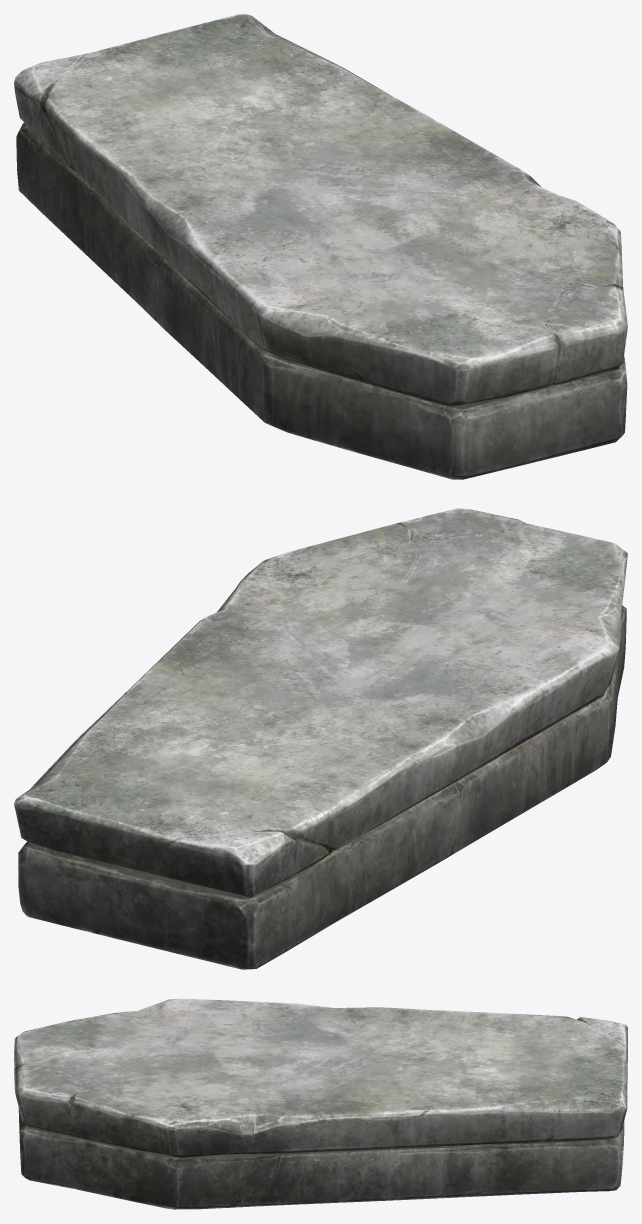
3 views of the same model, one above another, from view 1: azimuth 30°, elevation 25°; view 2: azimuth 150°, elevation 25°; view 3: azimuth 270°, elevation 25° (orthographic). The views are drawn at different scales.
Parts seen in each view (by area): view 1: SM_Coffin_01v1_LOD0; view 2: SM_Coffin_01v1_LOD0; view 3: SM_Coffin_01v1_LOD0.
Boxes of the visible parts, box(x1,y1,x2,y2) form: SM_Coffin_01v1_LOD0: box(14, 14, 627, 479); SM_Coffin_01v1_LOD0: box(14, 508, 627, 969); SM_Coffin_01v1_LOD0: box(14, 998, 627, 1209).
Size of the model in its own units: 1.16 by 0.3926 by 2.34.
Materials: 1 (1 with a texture image).
